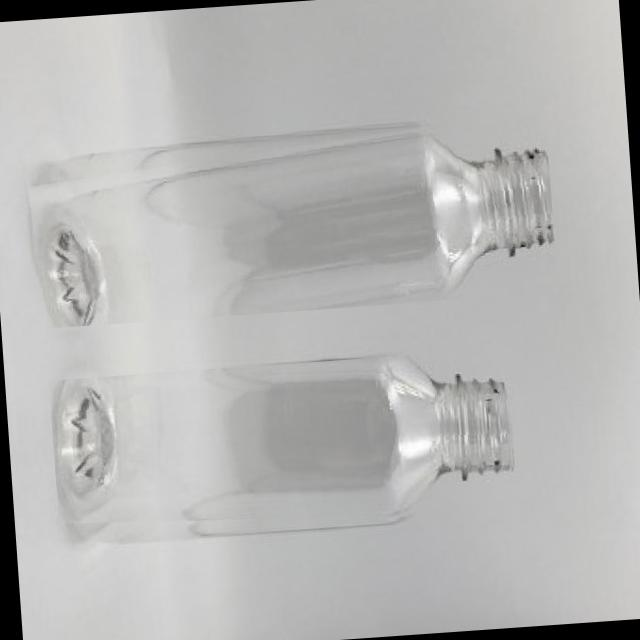plastic bottle: (22, 108, 556, 329), (48, 348, 518, 544)
